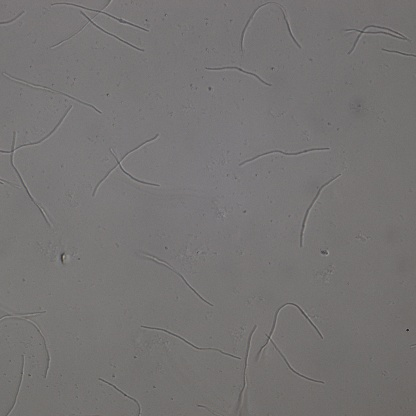Sensitive: (257, 301, 328, 386), (46, 1, 149, 56), (10, 131, 53, 228), (93, 134, 160, 196), (139, 250, 213, 305), (2, 73, 101, 113), (142, 322, 239, 360), (239, 2, 303, 56), (298, 173, 341, 250), (1, 105, 66, 153), (344, 20, 409, 54), (238, 145, 329, 167), (237, 323, 257, 409), (205, 65, 272, 89), (100, 378, 141, 416), (1, 357, 25, 416)
